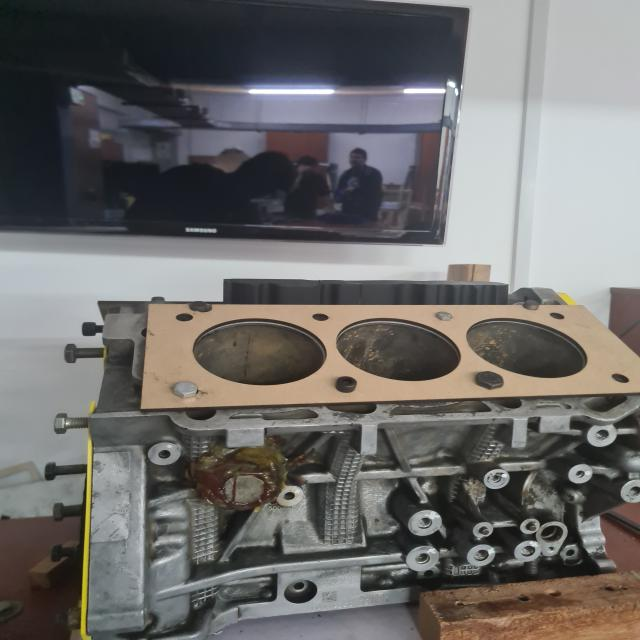vista1: (141, 304, 640, 407)
